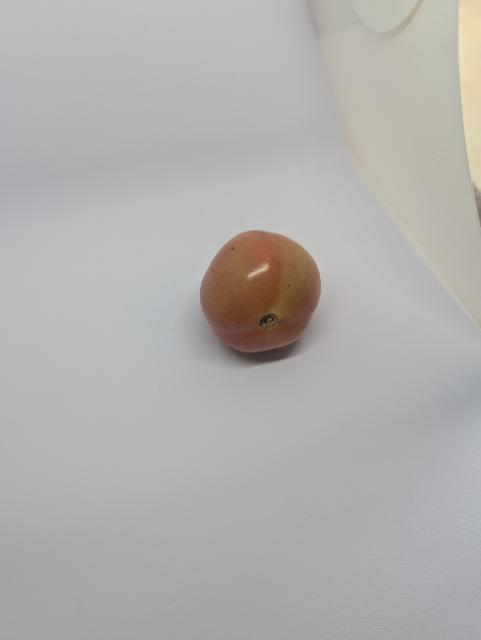turning: (196, 221, 333, 371)
